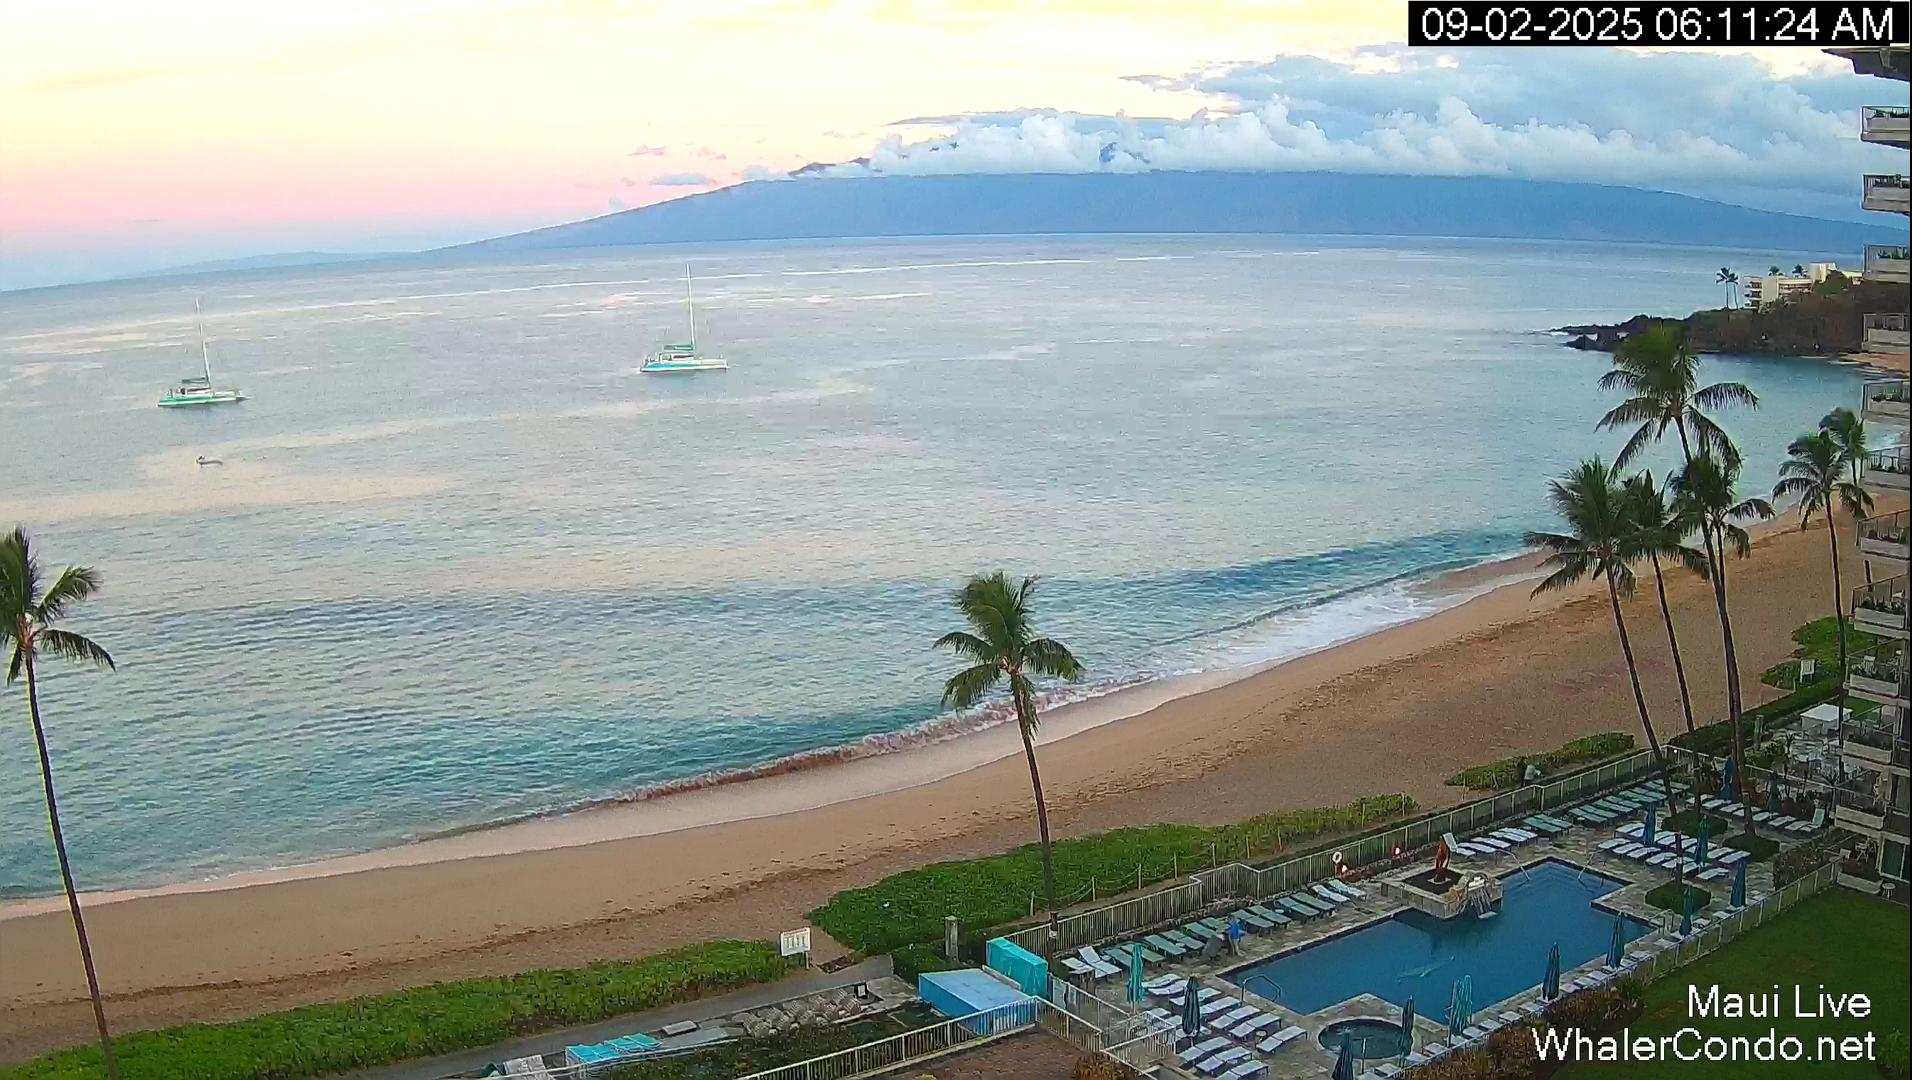boat: (157, 296, 249, 407), (640, 262, 728, 374), (197, 453, 224, 469)
person: (1229, 916, 1240, 956), (1517, 757, 1527, 788), (1527, 759, 1536, 789)
